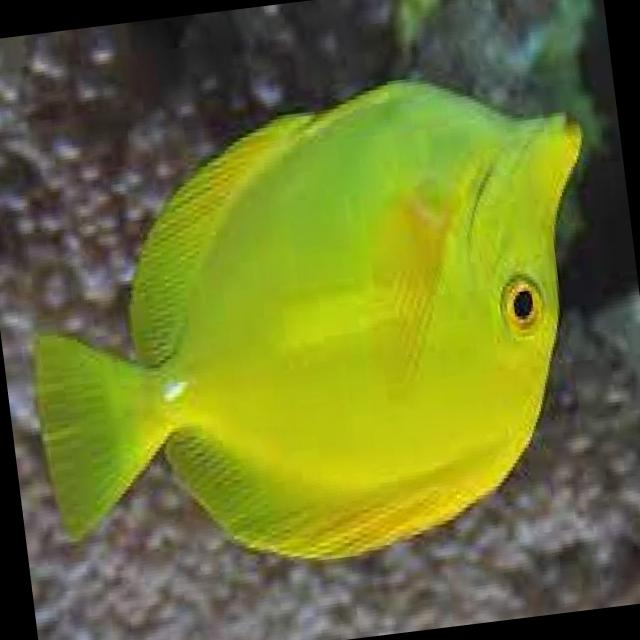YellowTang: (0, 41, 635, 601)
